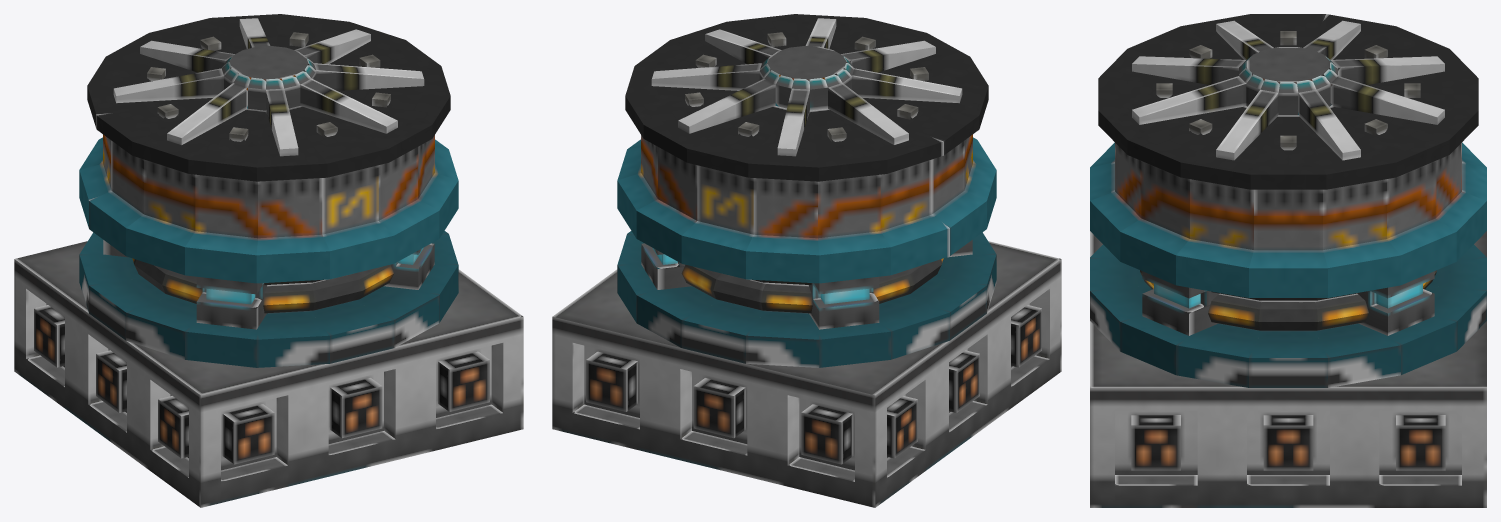
File: flywheel.obj
3 renders of one model, left to right at view 1: azimuth 30°, elevation 25°; view 2: azimuth 150°, elevation 25°; view 3: azimuth 270°, elevation 25°, orthographic. The views are drawn at different scales.
Visible parts, largest first — view 1: cube.002, cube.001, Torus, cube.008, cube.004; view 2: cube.002, cube.001, Torus, cube.008, cube.004; view 3: cube.002, cube.001, cube.008, Torus, cube.004.
Boxes of the visible parts, left/top/right/bottom form: cube.002: left=79, top=14, right=458, bottom=367; cube.001: left=14, top=241, right=523, bottom=507; Torus: left=132, top=258, right=394, bottom=313; cube.008: left=103, top=240, right=434, bottom=329; cube.004: left=147, top=32, right=390, bottom=141; cube.002: left=617, top=14, right=996, bottom=367; cube.001: left=552, top=241, right=1061, bottom=507; Torus: left=677, top=258, right=943, bottom=313; cube.008: left=641, top=240, right=972, bottom=329; cube.004: left=685, top=32, right=928, bottom=141; cube.002: left=1090, top=14, right=1486, bottom=387; cube.001: left=1090, top=231, right=1486, bottom=507; cube.008: left=1142, top=271, right=1434, bottom=335; Torus: left=1140, top=270, right=1436, bottom=330; cube.004: left=1156, top=31, right=1420, bottom=150.
Size of the model in its own units: 3 by 3 by 3.
